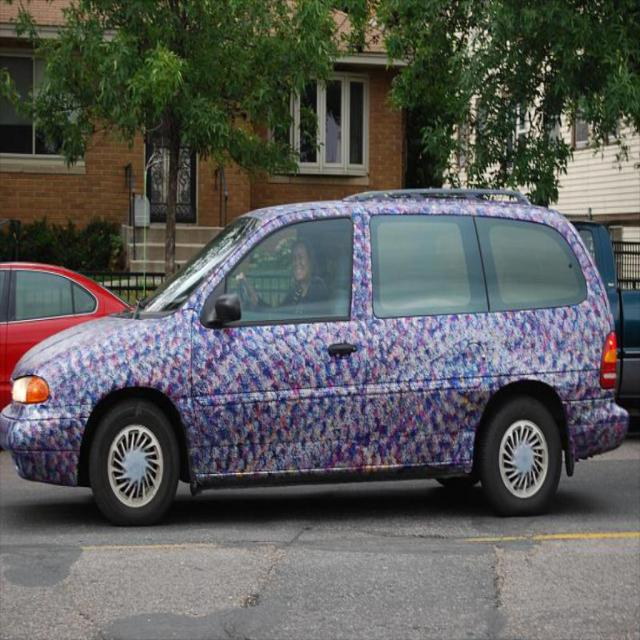car: (1, 183, 629, 516)
